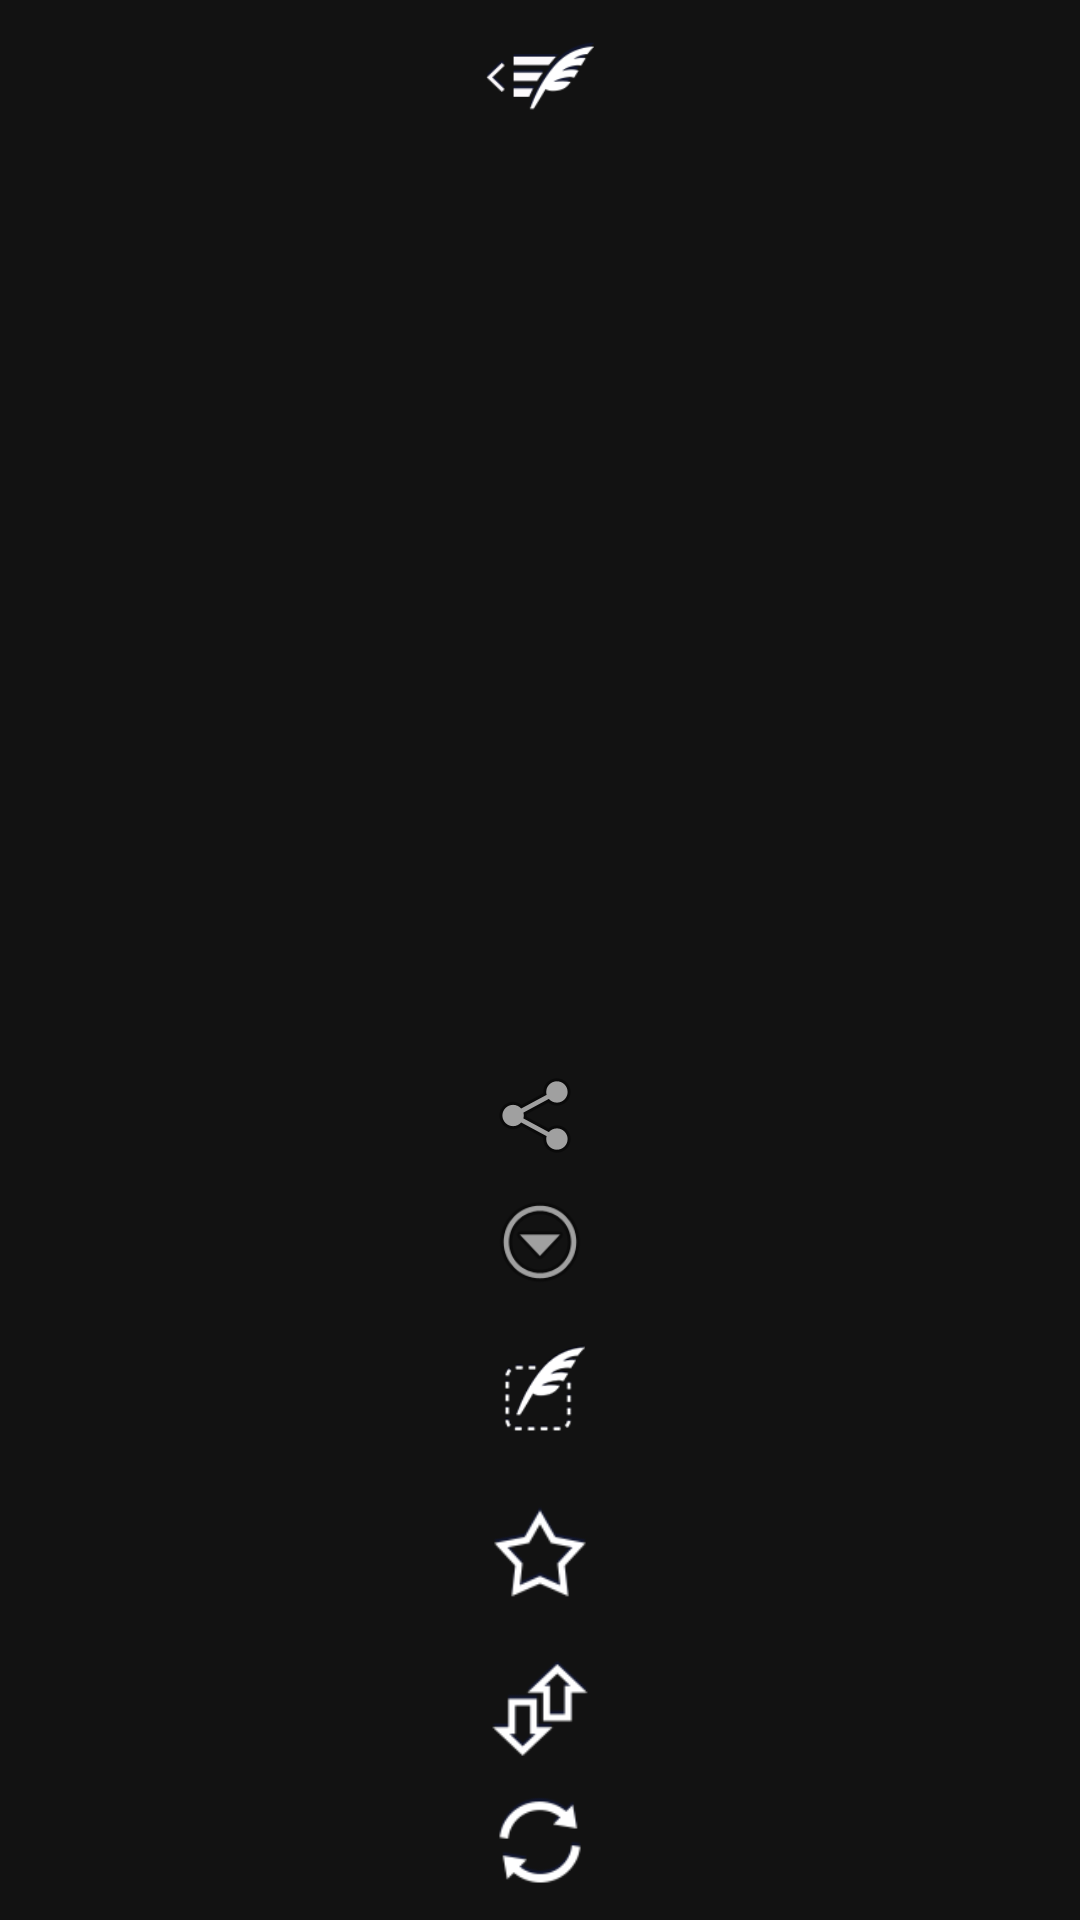

Icon click points for this 1080*1920 phone screenshot, format point (x, y):
back to posts: point (540, 76)
favourites not: point (540, 1553)
more: point (540, 1242)
refresh: point (540, 1841)
share: point (535, 1115)
write: point (545, 1388)
